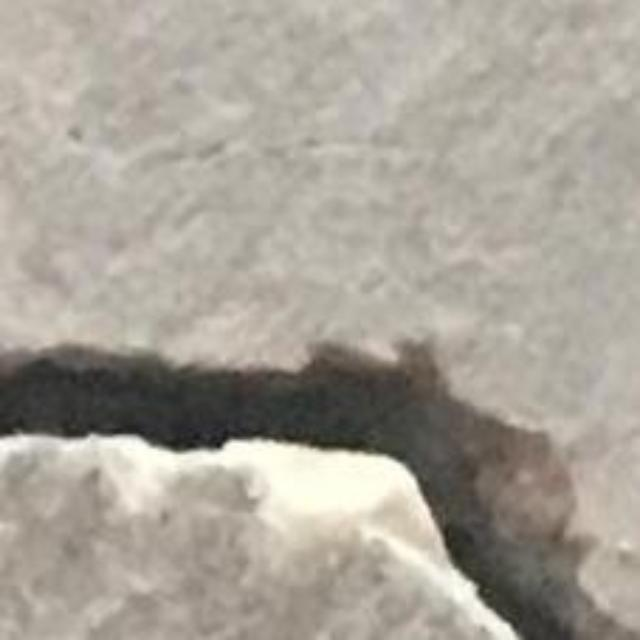crack: (0, 344, 639, 639)
